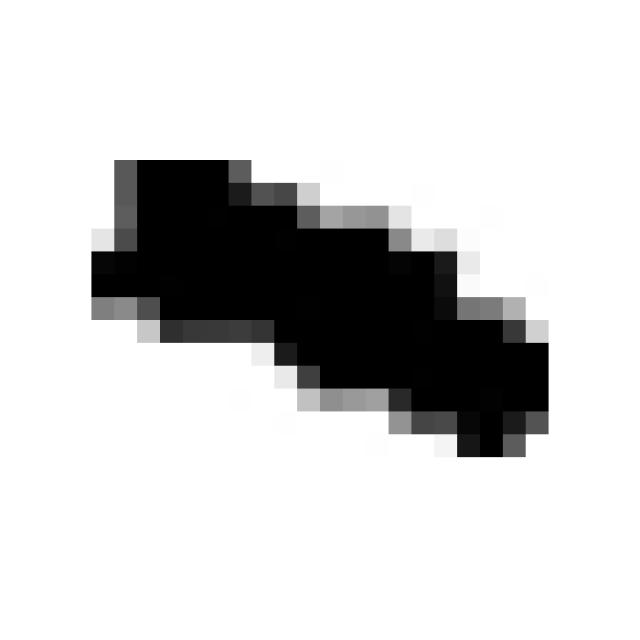0 -zero-: (71, 137, 565, 472)
